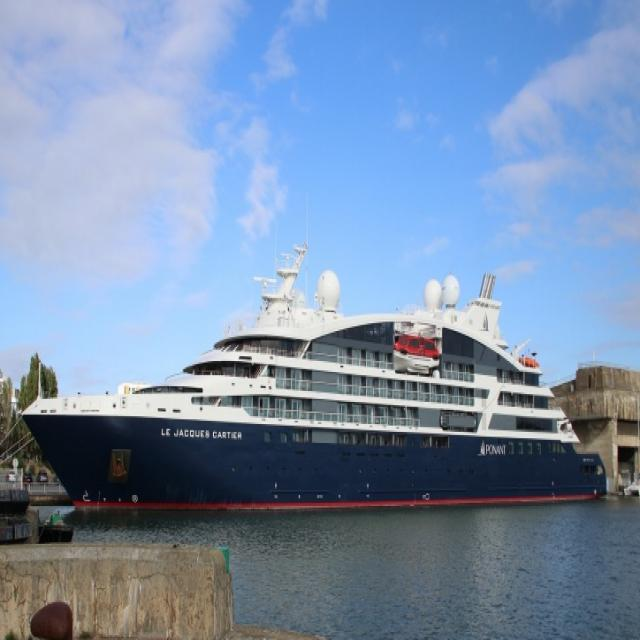cruises: (16, 237, 608, 526)
